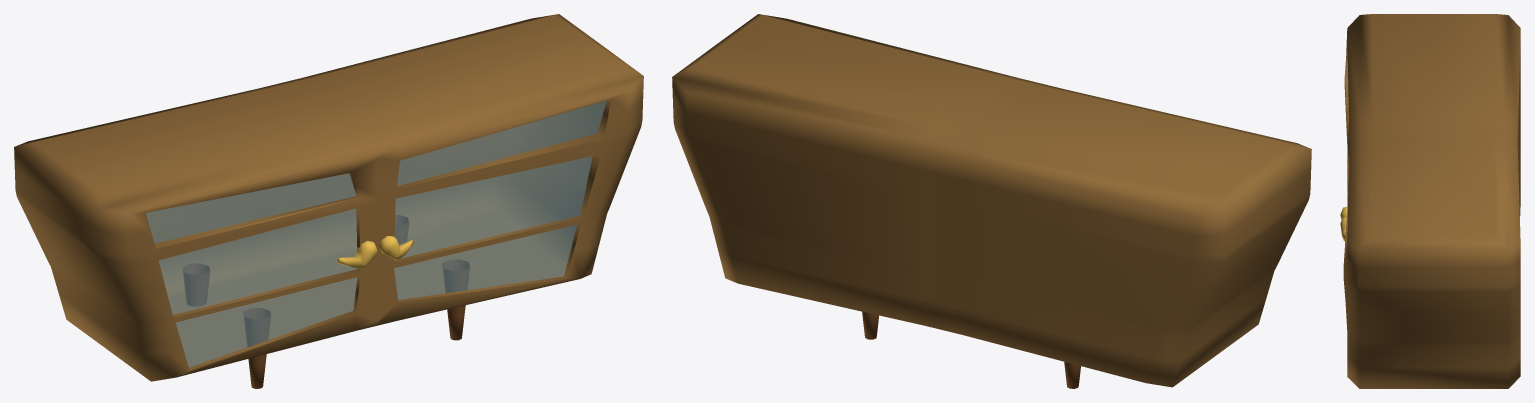
File: grande_armoire_horizontale.fbx
3 renders of one model, left to right at view 1: azimuth 30°, elevation 25°; view 2: azimuth 150°, elevation 25°; view 3: azimuth 270°, elevation 25°, orthographic. The views are drawn at different scales.
Visible parts, largest first — view 1: Cube.006; view 2: Cube.006; view 3: Cube.006.
Boxes of the visible parts, left/top/right/bottom form: Cube.006: left=14, top=14, right=643, bottom=388; Cube.006: left=672, top=14, right=1311, bottom=388; Cube.006: left=1340, top=14, right=1520, bottom=388.
Bounding box in the file's own units: 467 × 189 × 152.
